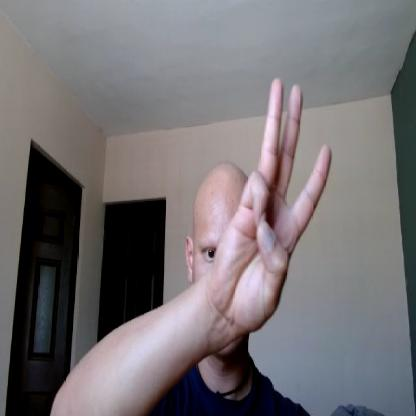W: (217, 75, 333, 318)
